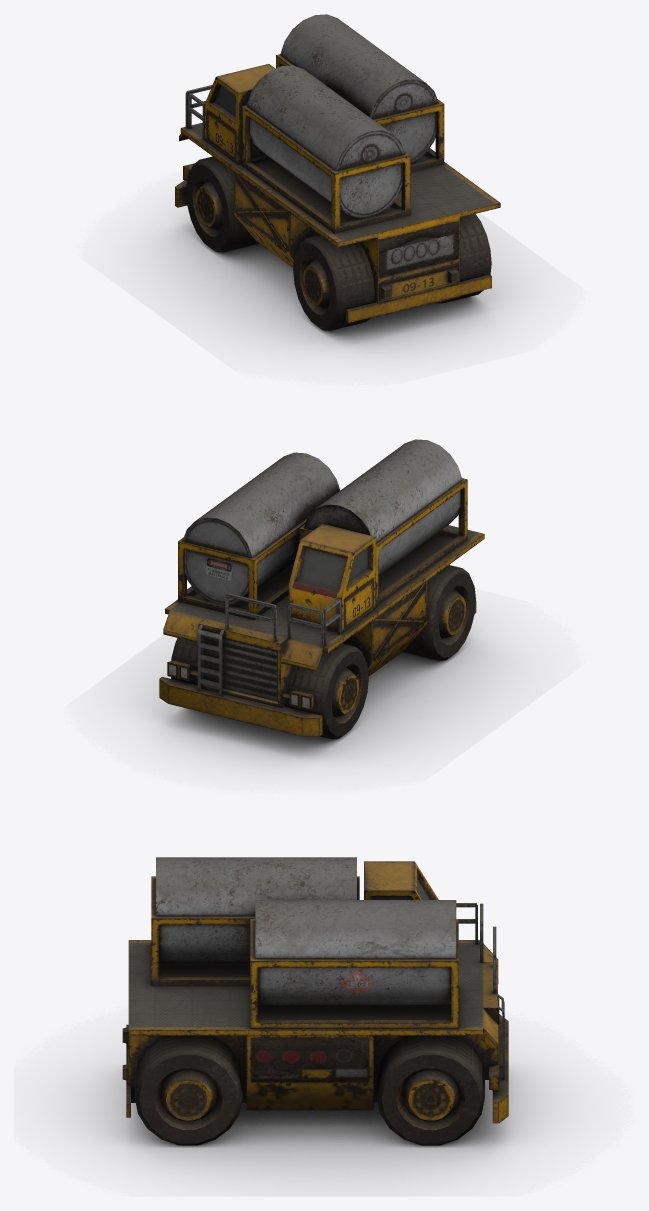
The picture shows the model from 3 angles, top to bottom: view 1: azimuth 30°, elevation 25°; view 2: azimuth 150°, elevation 25°; view 3: azimuth 270°, elevation 25°; orthographic projection. The views are drawn at different scales.
Visible parts, largest first — view 1: airextruck, Plane001; view 2: airextruck, Plane001; view 3: airextruck, Plane001.
Part boxes in pixels (left/top/right/bottom): airextruck: left=175, top=14, right=500, bottom=330; Plane001: left=167, top=215, right=503, bottom=349; airextruck: left=159, top=439, right=484, bottom=739; Plane001: left=151, top=629, right=488, bottom=761; airextruck: left=122, top=857, right=508, bottom=1145; Plane001: left=94, top=1066, right=536, bottom=1172.
Size of the model in its own units: 296 by 162 by 406.
Materials: 2 (2 with a texture image).
